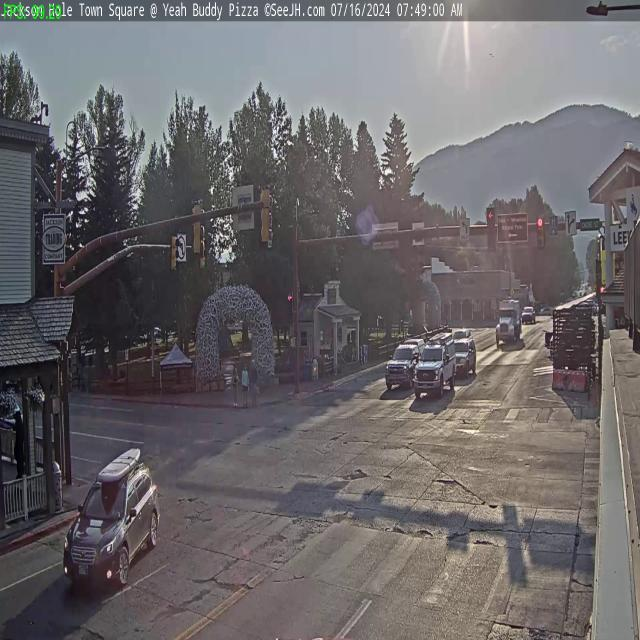person: (241, 351, 250, 409), (250, 359, 259, 409), (232, 364, 240, 410)
pickup: (414, 343, 455, 398), (382, 336, 422, 390)
suv: (60, 439, 164, 594), (452, 334, 478, 380)
traffic light: (260, 184, 272, 246), (190, 199, 203, 256), (486, 207, 496, 252), (536, 215, 544, 248)
truck: (494, 296, 523, 346)
